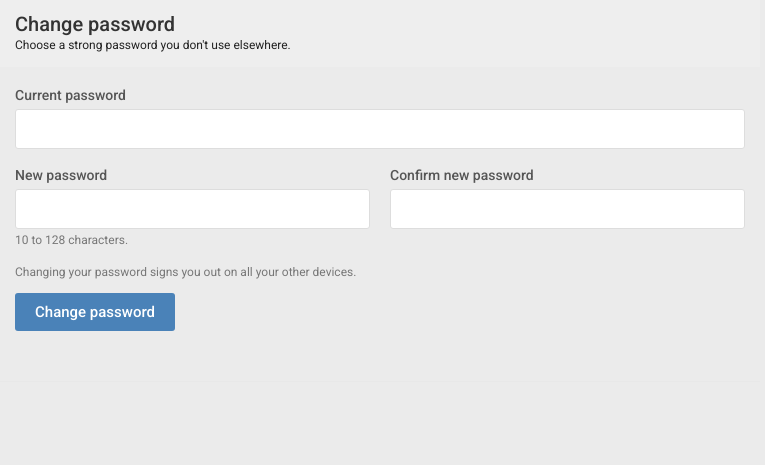
Test: validates length and confirmation (no composition rules)
This screenshot has width=765, height=465.
Type "old-password" into the password field labelled "Current password" at (380, 129), box [15,109,745,149]
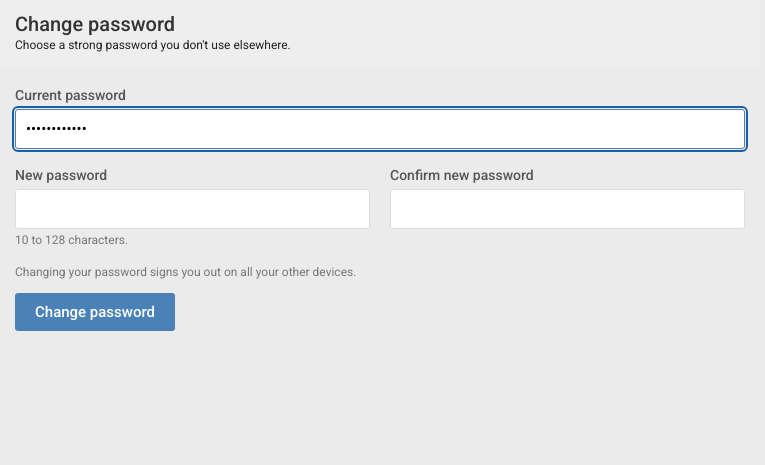
Type "short" into the password field labelled "New password" at (192, 209), box [15,189,370,229]
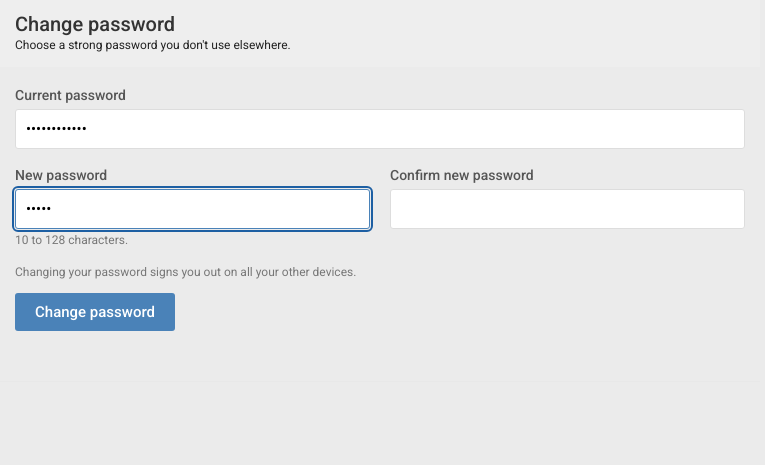
Type "different" into the password field labelled "Confirm new password" at (568, 209), box [390,189,745,229]
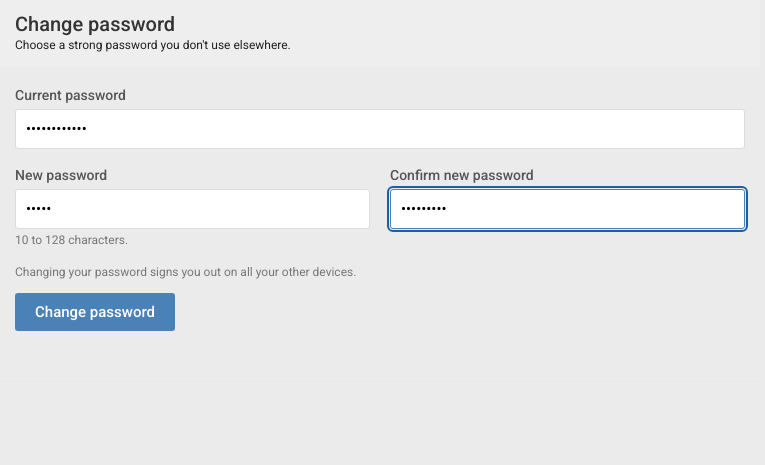
Click the button "Change password" at (95, 312), box [15,293,175,331]
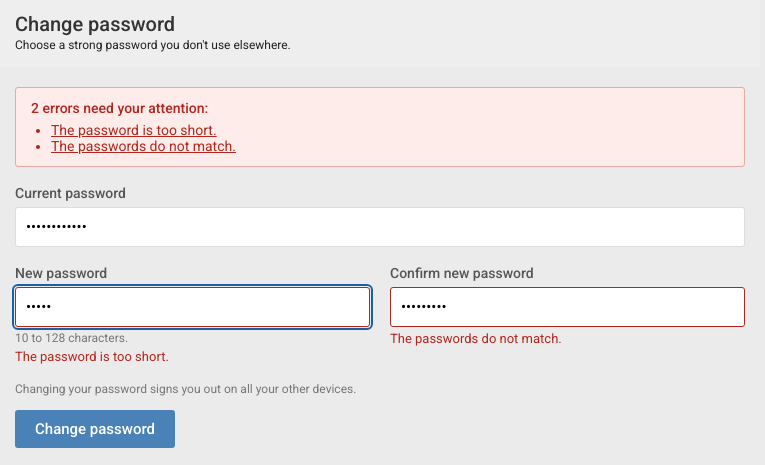
Expected: the message that starts with "2 errors need your attention:" shows "The password is too short.", [51,122,217,138]
Expected: the message that starts with "2 errors need your attention:" shows "The passwords do not match.", [51,138,236,154]
